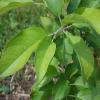Apple leaf: (1, 22, 49, 80), (67, 33, 97, 87), (34, 34, 57, 88)
